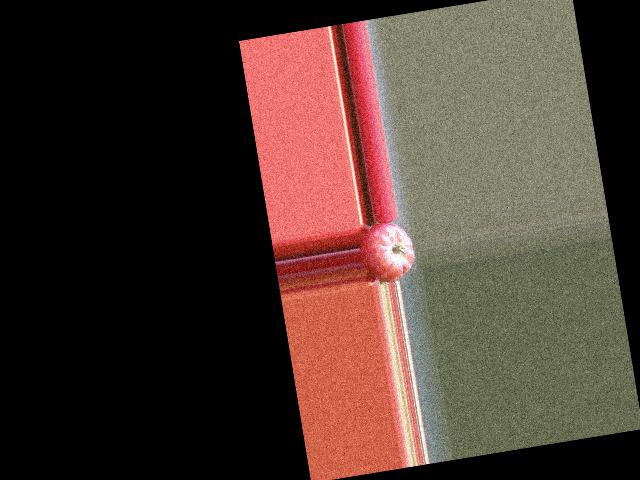tomato: (356, 219, 418, 286)
